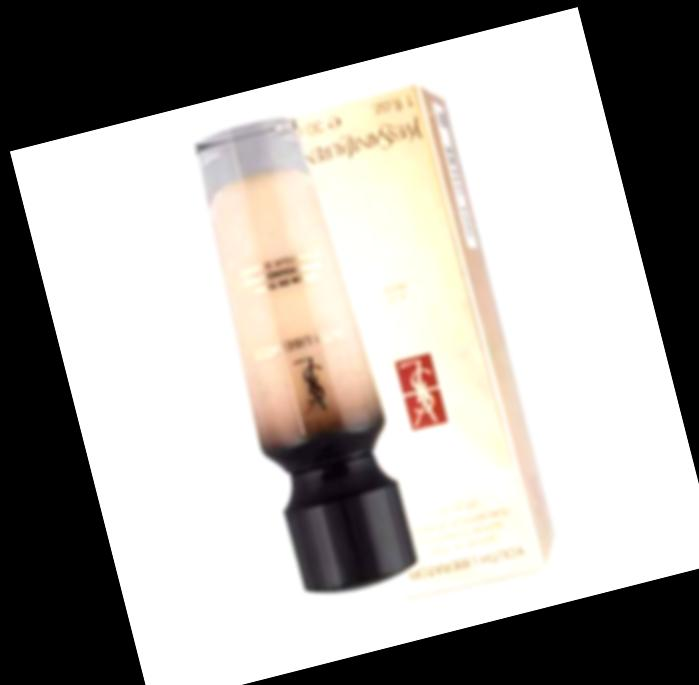cosmetic: (181, 109, 423, 596)
